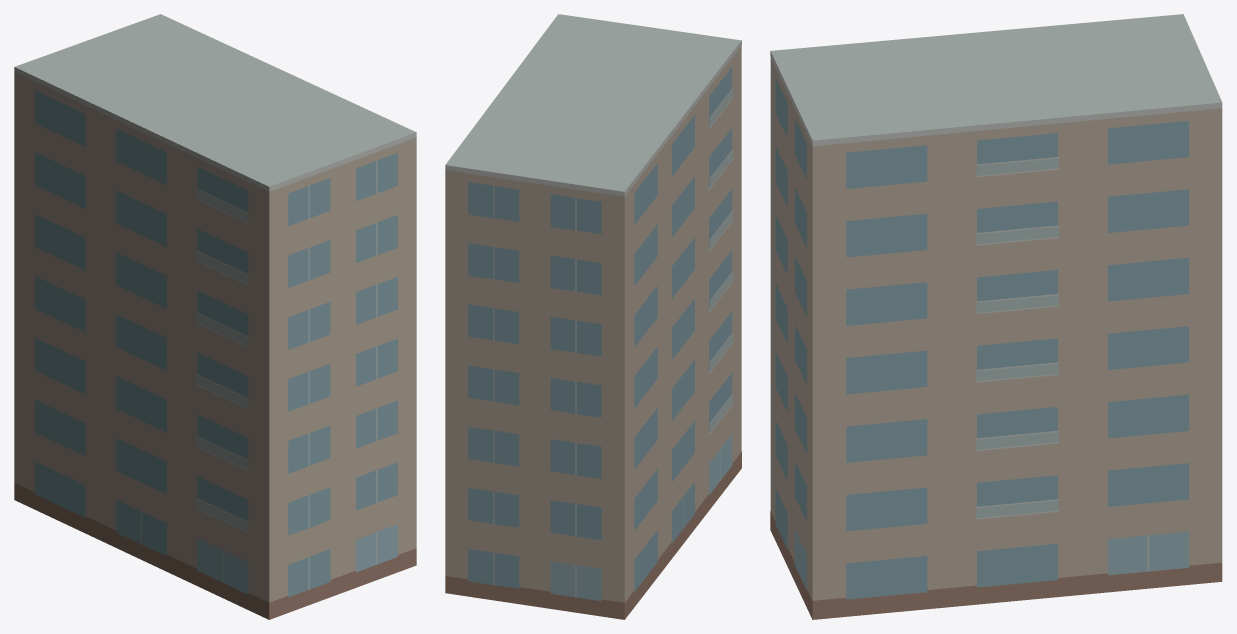
The model's file is survey-upis-32601517.glb.
The picture shows the model from 3 angles, left to right: view 1: azimuth 30°, elevation 25°; view 2: azimuth 150°, elevation 25°; view 3: azimuth 270°, elevation 25°; orthographic projection. The views are drawn at different scales.
Visible parts, largest first — view 1: survey-upis-32601517.tmp; view 2: survey-upis-32601517.tmp; view 3: survey-upis-32601517.tmp.
Boxes of the visible parts, left/top/right/bottom form: survey-upis-32601517.tmp: left=14, top=14, right=416, bottom=619; survey-upis-32601517.tmp: left=445, top=14, right=741, bottom=619; survey-upis-32601517.tmp: left=770, top=14, right=1222, bottom=619.
Size of the model in its own units: 11.84 by 20.85 by 17.83.
